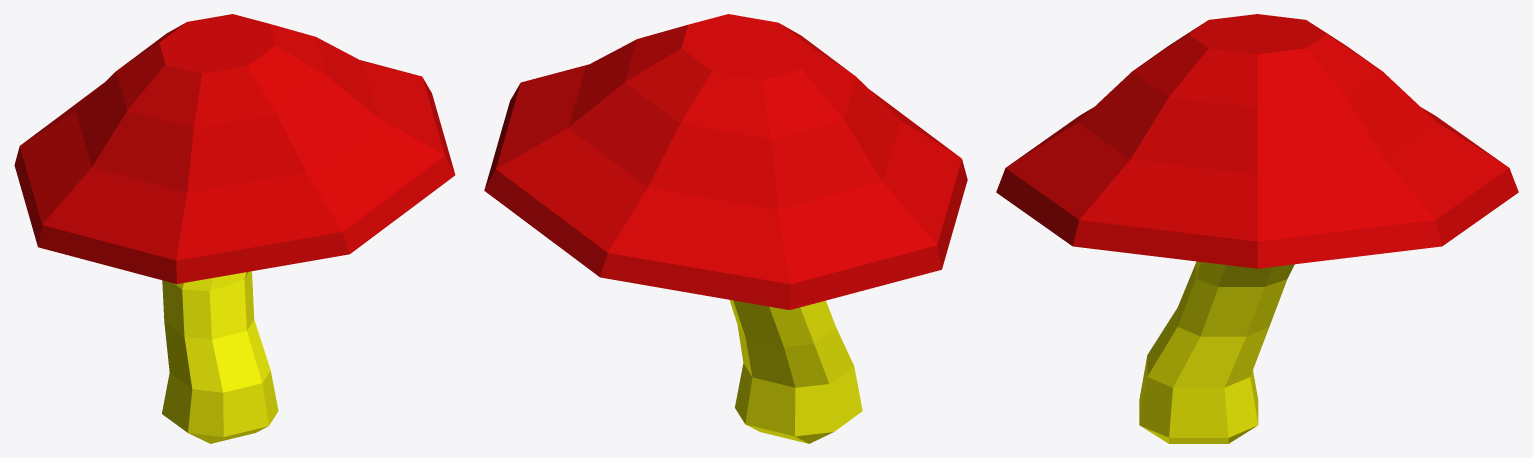
File: Abbie - Mushroom2.fbx
The picture shows the model from 3 angles, left to right: view 1: azimuth 30°, elevation 25°; view 2: azimuth 150°, elevation 25°; view 3: azimuth 270°, elevation 25°; orthographic projection. The views are drawn at different scales.
Parts seen in each view (by area): view 1: mushroom2; view 2: mushroom2; view 3: mushroom2.
Boxes of the visible parts, <box> form: mushroom2: <box>14,14,455,443</box>; mushroom2: <box>484,14,967,443</box>; mushroom2: <box>996,14,1518,443</box>.
Size of the model in its own units: 16.28 by 14.53 by 16.44.
